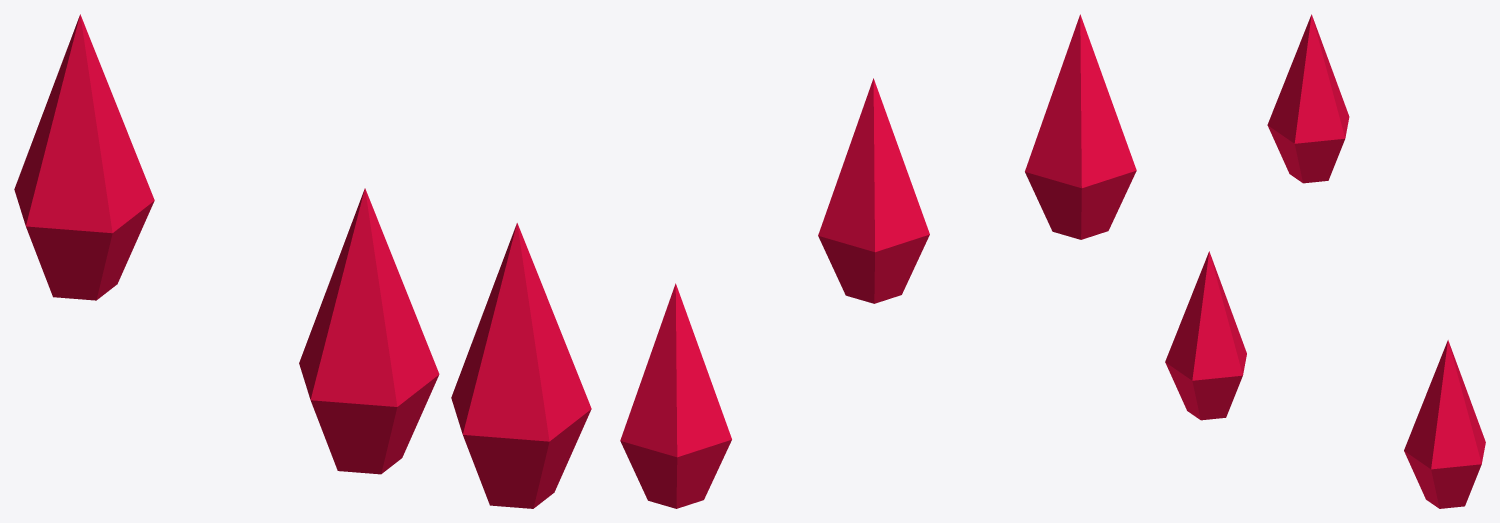
The model's file is flames3.glb.
3 views of the same model, side by side, from view 1: azimuth 30°, elevation 25°; view 2: azimuth 150°, elevation 25°; view 3: azimuth 270°, elevation 25° (orthographic). The views are drawn at different scales.
Visible parts, largest first — view 1: Flames3; view 2: Flames3; view 3: Flames3.
Boxes of the visible parts, <box> form: Flames3: <box>14,14,591,508</box>; Flames3: <box>620,14,1136,508</box>; Flames3: <box>1165,14,1485,508</box>.
Bounding box in the file's own units: 0.5233 × 0.6 × 0.4702.
